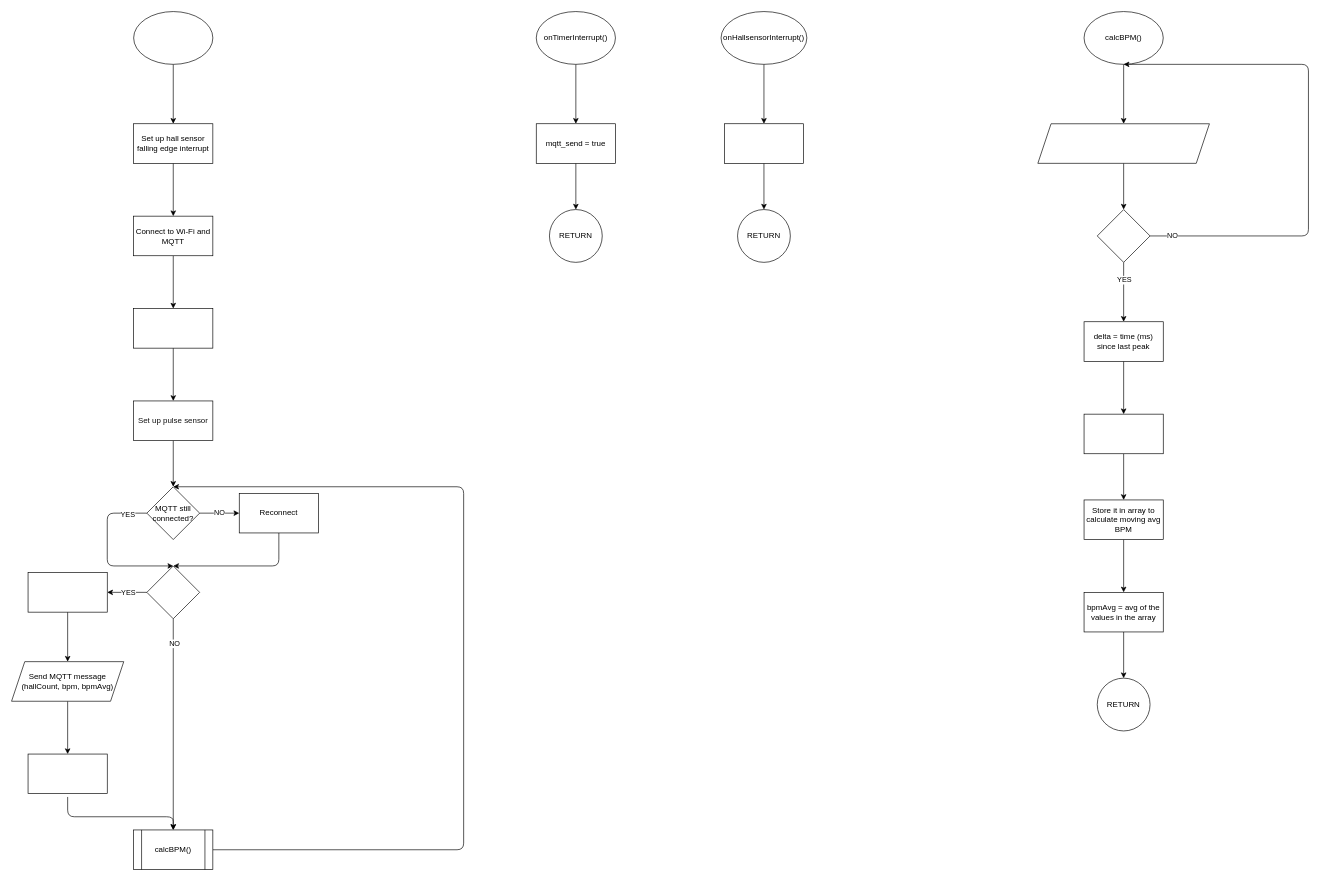
Image size: 1325x881. Some labels were removed from this diagram. The shapes that lost their labels are listed below. From the top down, each one's centre as x and y in pixels, then its label:
At (173,37): "START".
At (764,143): "++hallCount".
At (1123,143): "Read raw infrared value from pulse sensor".
At (1123,235): "Peak detected?".
At (173,328): "Set up timer interrupt (for transmission scheduling)".
At (1123,433): "bpm = 60 / (delta / 1000)".
At (67,592): "mqtt_send = false".
At (173,592): "mqtt_send == true".
At (67,773): "hallCount = 0".
